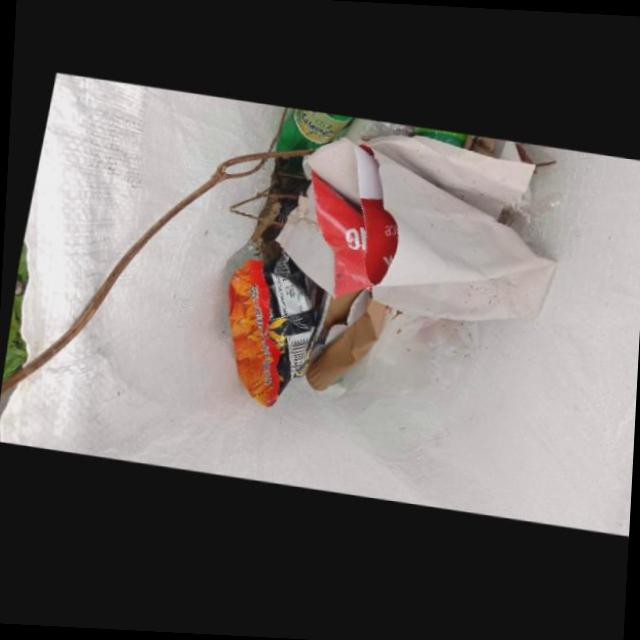bao_bi_thuc_pham: (221, 257, 324, 411)
carton: (301, 295, 385, 395)
chai_nhua: (267, 112, 345, 156)
giay: (268, 137, 550, 323)
